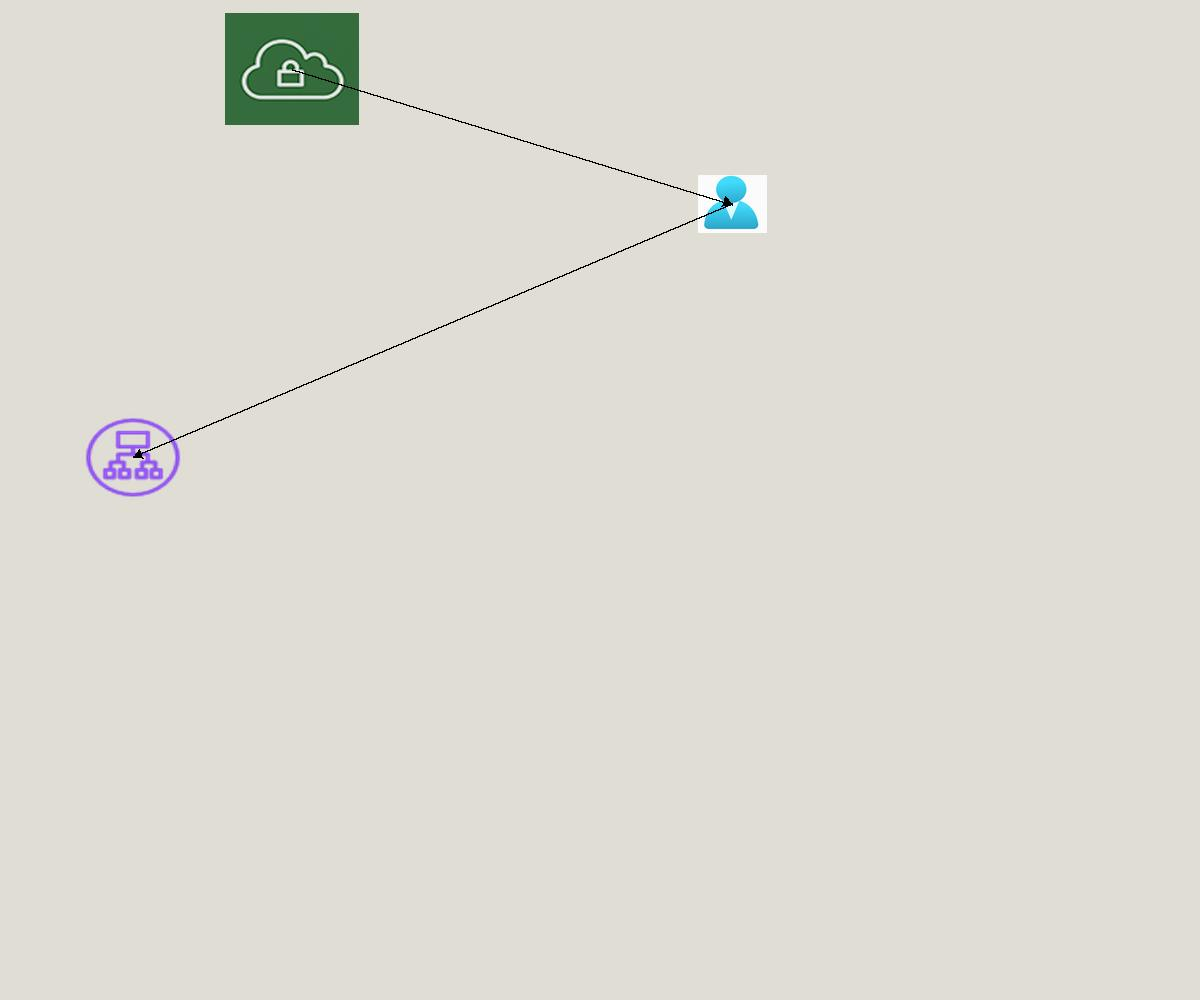AWS-Private_vpc: (225, 13, 359, 125)
AWS-Res_Elastic-Load-Balancing_Application-Load-Balancer: (82, 415, 184, 500)
Azure_users: (698, 175, 767, 233)
